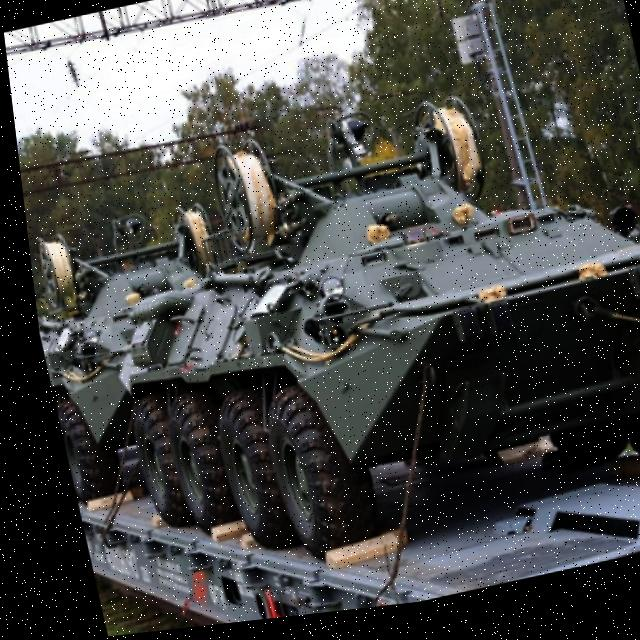MIL_APC: (12, 76, 640, 608)
